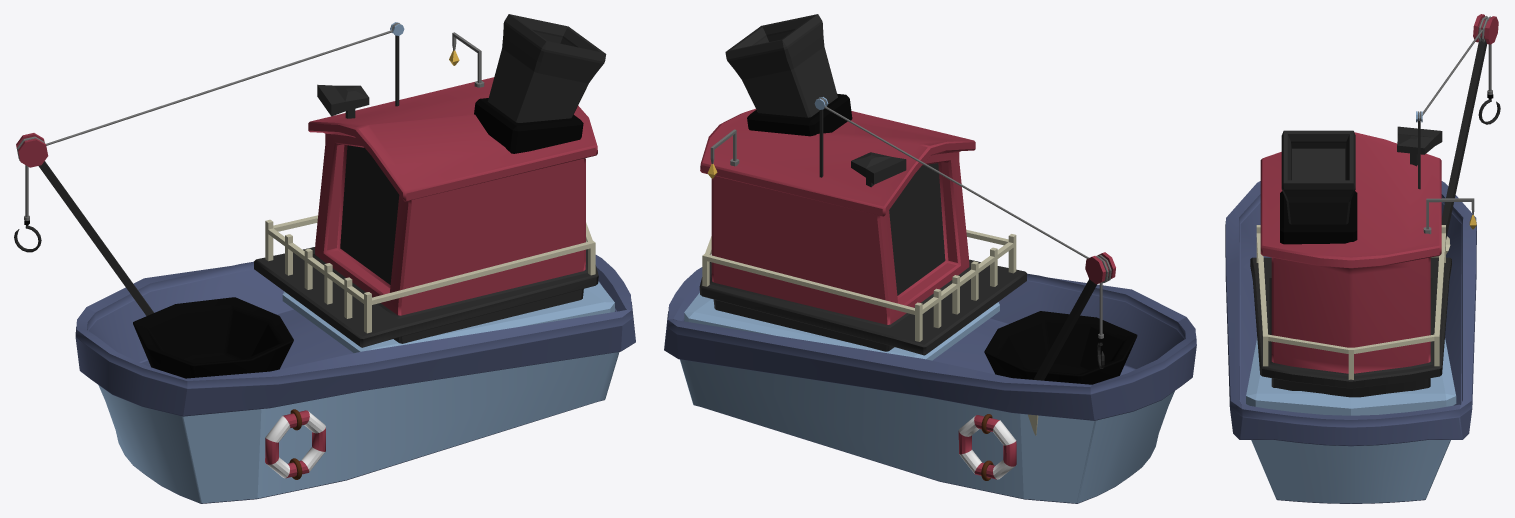
Rendered from boat.fbx.
3 renders of one model, left to right at view 1: azimuth 30°, elevation 25°; view 2: azimuth 150°, elevation 25°; view 3: azimuth 270°, elevation 25°, orthographic. The views are drawn at different scales.
Parts seen in each view (by area): view 1: Boat; view 2: Boat; view 3: Boat.
Part boxes in pixels (left/top/right/bottom): Boat: left=14, top=14, right=635, bottom=503; Boat: left=664, top=14, right=1196, bottom=503; Boat: left=1225, top=14, right=1500, bottom=503.
Bounding box in the file's own units: 526 × 363 × 260.
